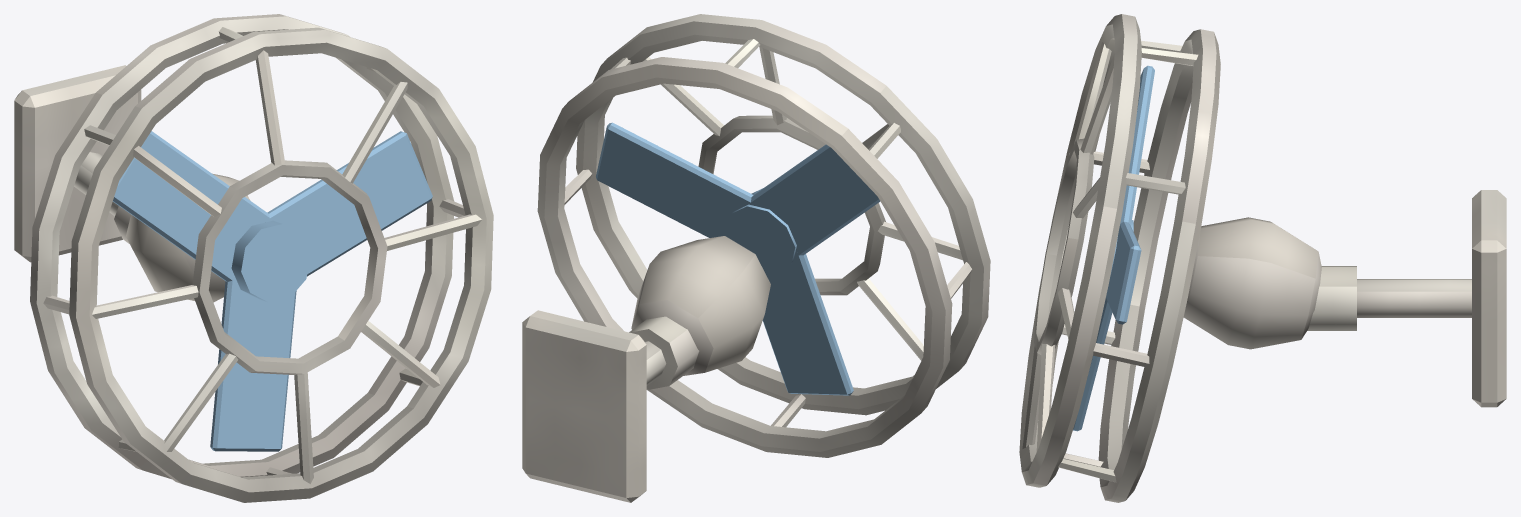
The model's file is fan_wall.glb.
3 renders of one model, left to right at view 1: azimuth 30°, elevation 25°; view 2: azimuth 150°, elevation 25°; view 3: azimuth 270°, elevation 25°, orthographic. The views are drawn at different scales.
Parts seen in each view (by area): view 1: fan_wall; view 2: fan_wall; view 3: fan_wall.
Part boxes in pixels (left/top/right/bottom): fan_wall: left=14, top=14, right=493, bottom=502; fan_wall: left=522, top=14, right=990, bottom=502; fan_wall: left=1019, top=14, right=1506, bottom=502.
Bounding box in the file's own units: 0.4208 × 0.4286 × 0.4235.
2 materials, 1 textured.
